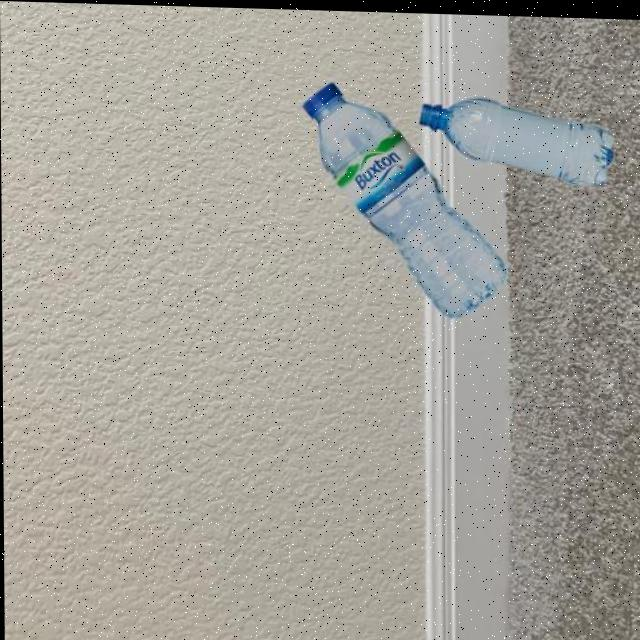bottle: (300, 79, 507, 318), (416, 92, 615, 184)
